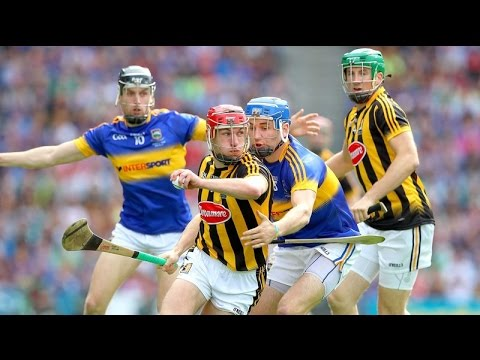hurley: (58, 218, 179, 274), (266, 231, 382, 245)
